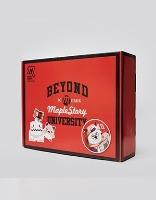undamaged: (16, 51, 138, 165)
